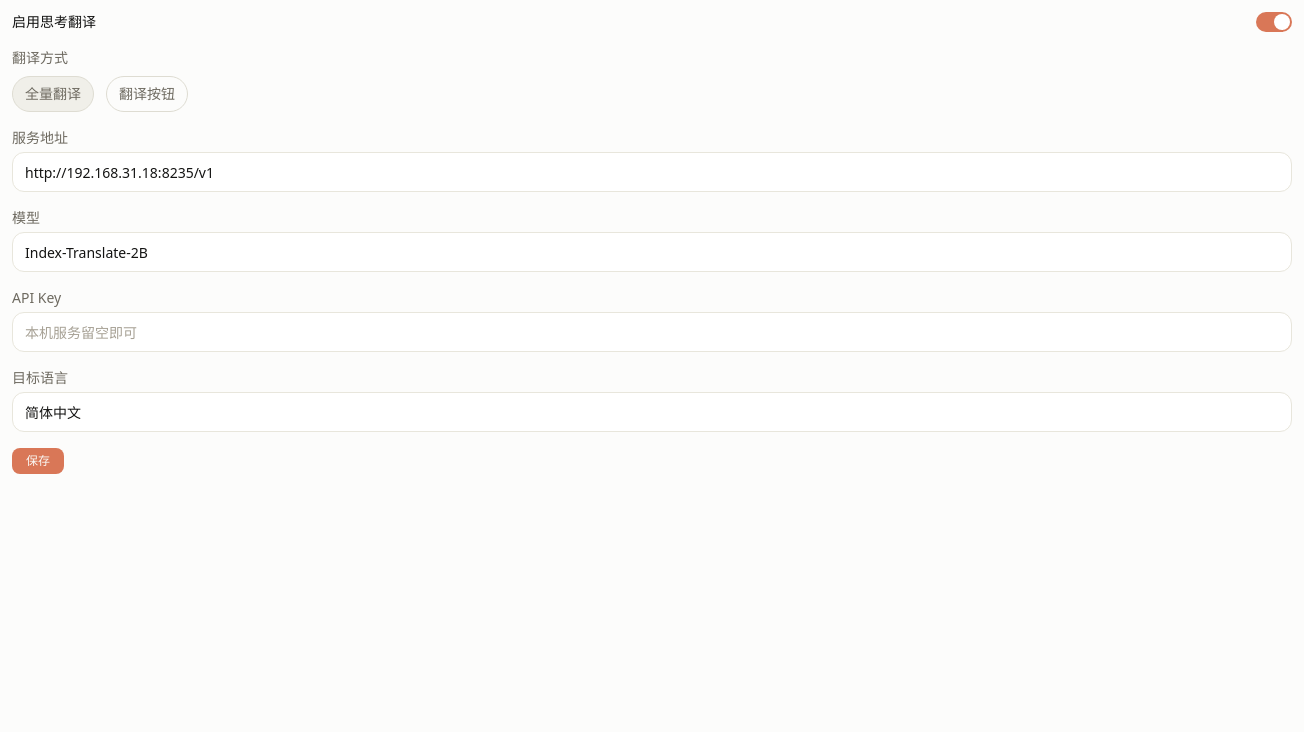
Scenario: 「思考翻译」组的保存反馈与就地写入串行（012 / 010） › 012：保存成功后改服务地址 → 「已保存」立刻消失（不显示假成功）
Type "https://api.example.com/v1" into the field with test id "translate-base-url" at (652, 172), box [12, 152, 1292, 192]
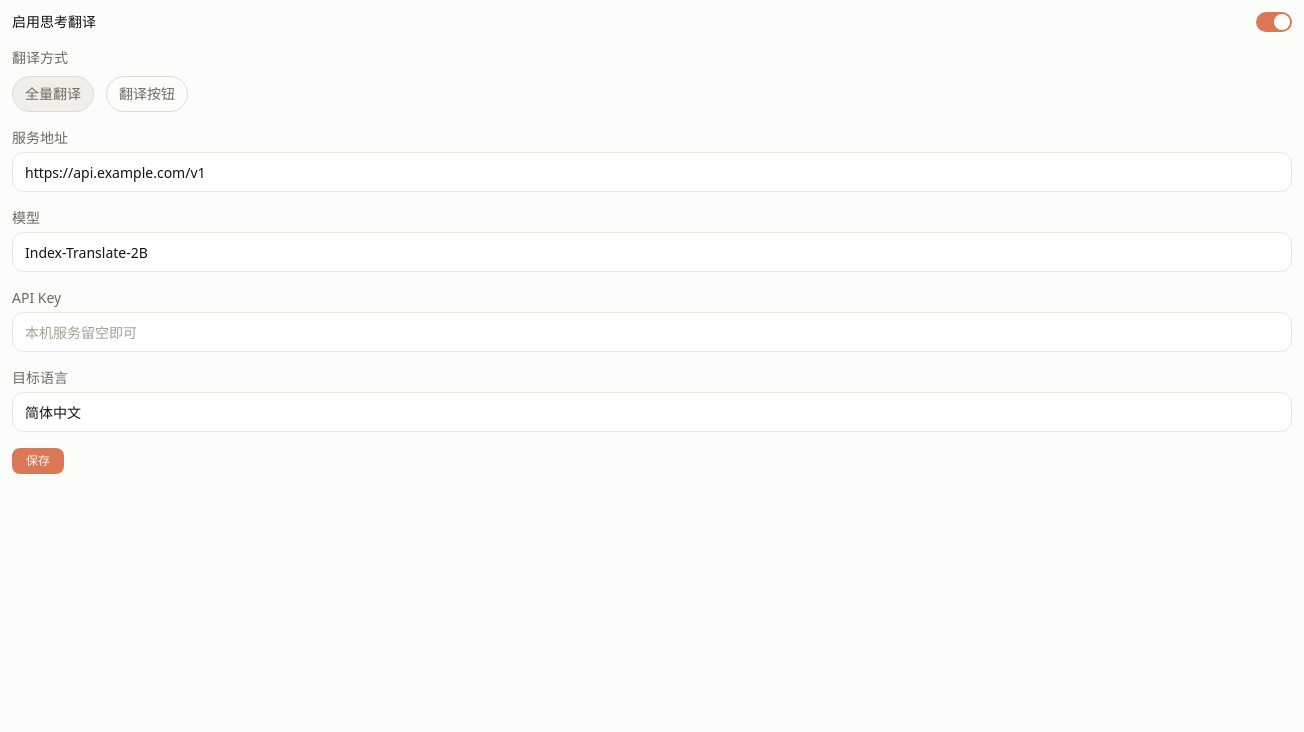
Click the button with test id "translate-save" at (38, 461), box [12, 448, 64, 474]
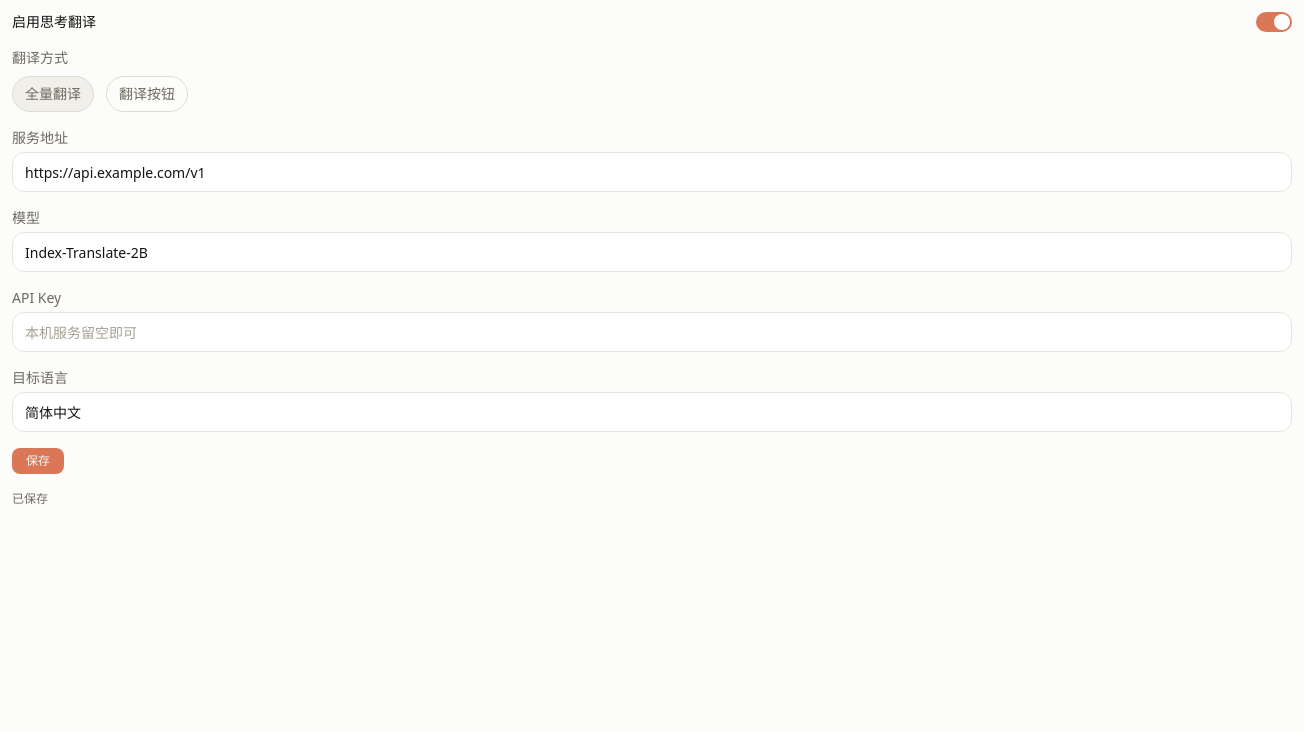
Now the message with test id "translate-notice" reads "已保存", box [12, 490, 48, 507]
Replace the text in the field with test id "translate-base-url" with "https://api.example.com/v2" at (652, 172), box [12, 152, 1292, 192]
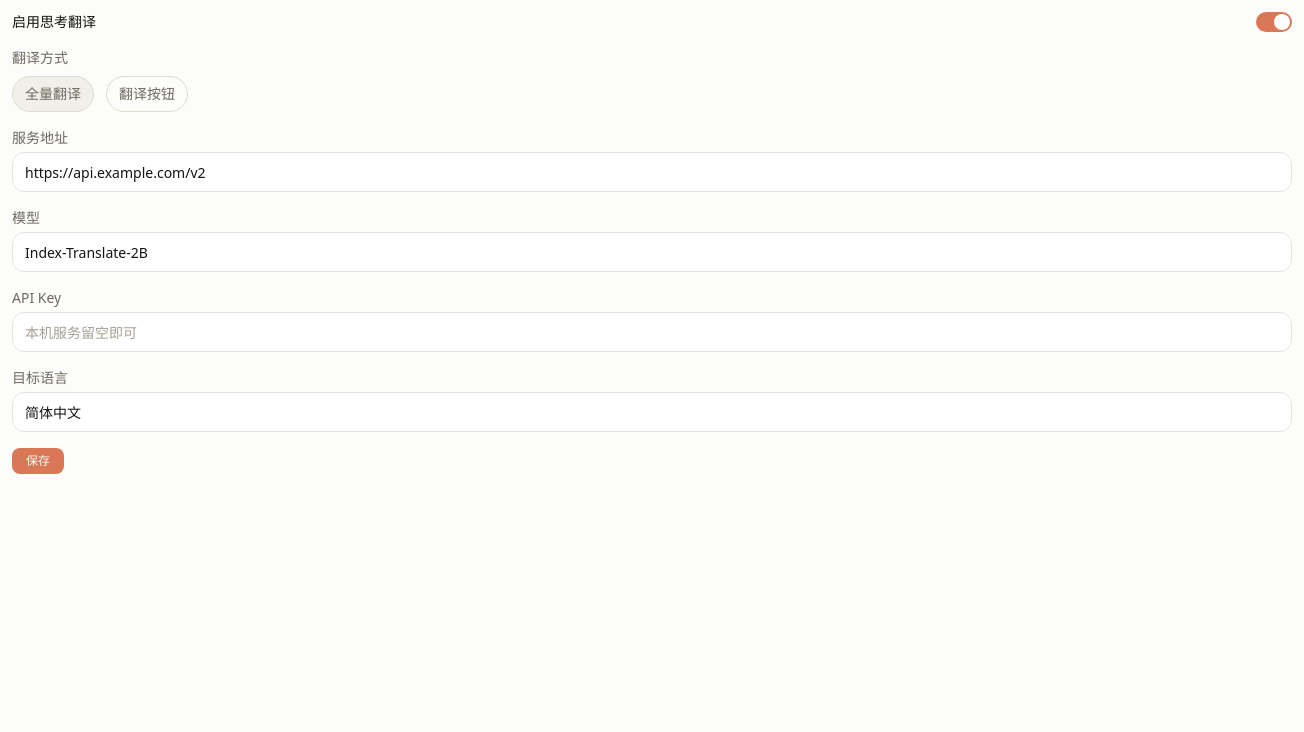
Now the message with test id "translate-notice" is gone
